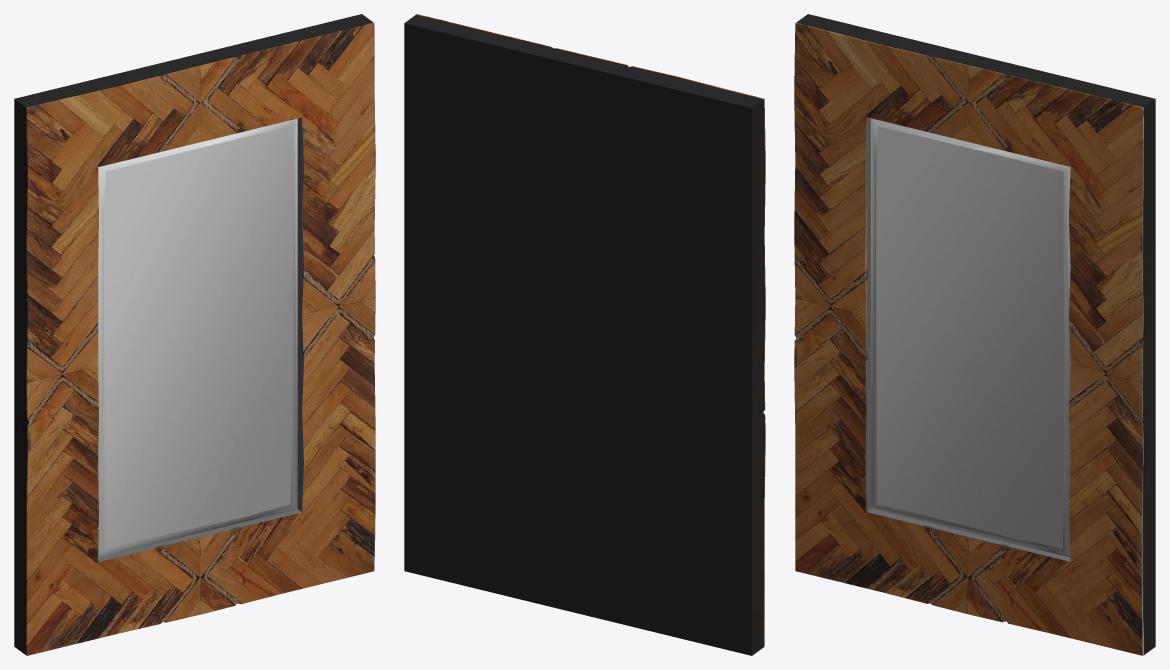
Rendered from abo-B0718ZKQK8.glb.
The picture shows the model from 3 angles, left to right: view 1: azimuth 30°, elevation 25°; view 2: azimuth 150°, elevation 25°; view 3: azimuth 330°, elevation 25°; orthographic projection.
Visible parts, largest first — view 1: RootNode; view 2: RootNode; view 3: RootNode.
Part boxes in pixels (bbox=[...]): RootNode: bbox=[14, 14, 375, 655]; RootNode: bbox=[404, 14, 765, 655]; RootNode: bbox=[794, 14, 1155, 655].
Size of the model in its own units: 0.6057 by 0.9118 by 0.0436.
Materials: 1 (1 with a texture image).
